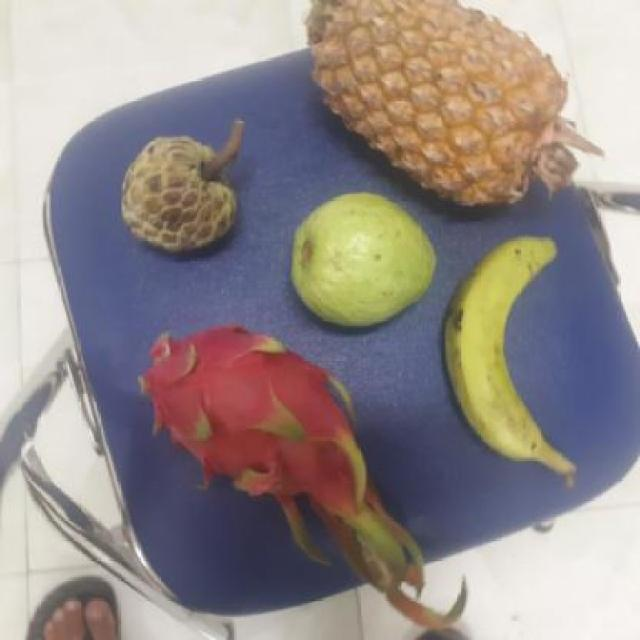banana: (438, 234, 564, 463)
dragon fruit: (132, 324, 360, 502)
guava: (287, 188, 438, 326)
pineapple: (313, 8, 575, 212)
sugar apple: (116, 134, 236, 255)
